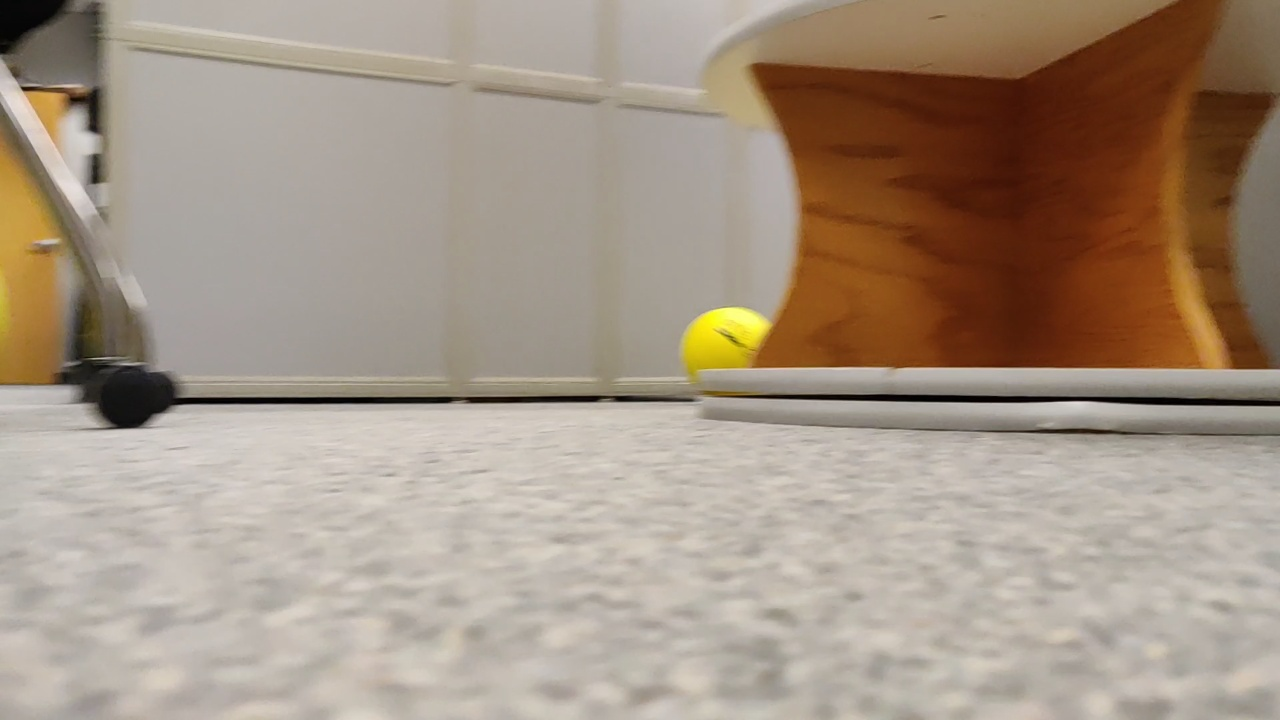Ball: (677, 305, 759, 378)
